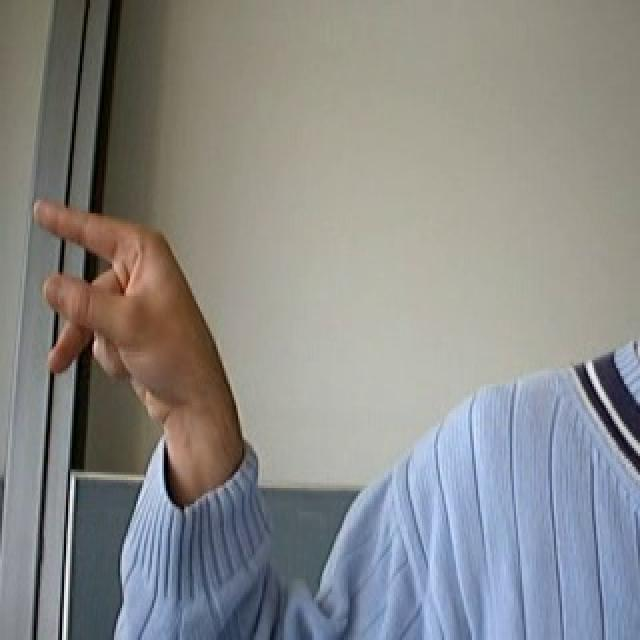P: (25, 187, 242, 420)
